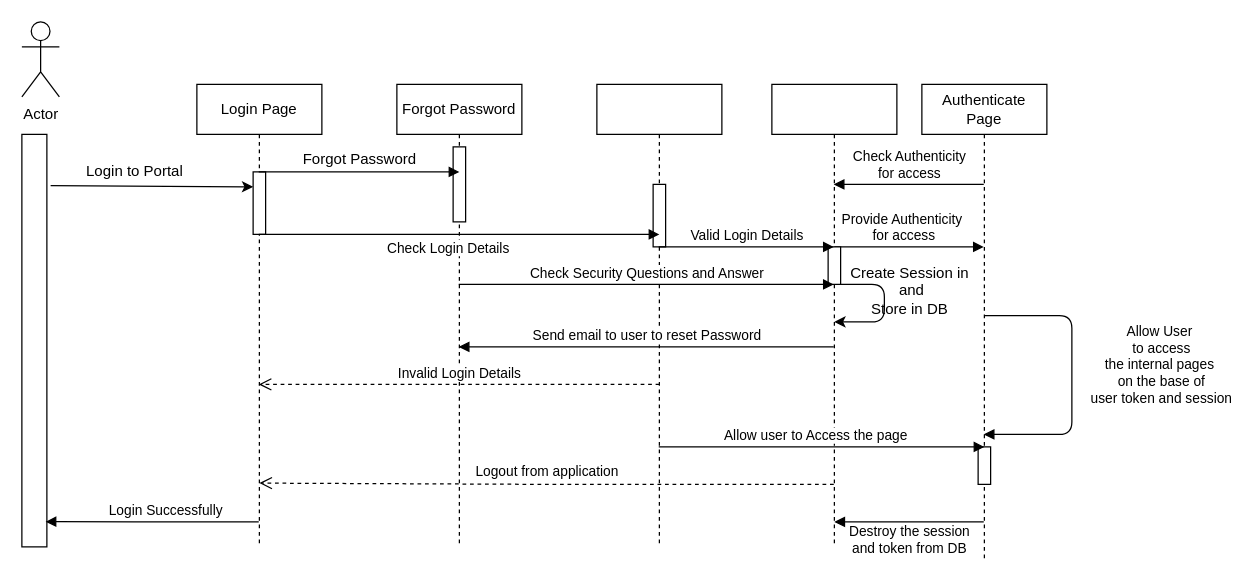
Some shapes in this 1254 by 581 pixel diagram are drawn without their labels. The centre of each missing label's shape, as x and y in pixels:
"DataBase" goes at (834,315).
"Verification" goes at (659,315).
